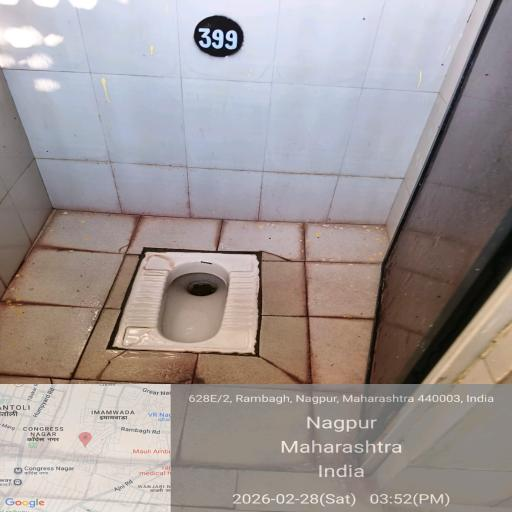clean_floor: (7, 8, 442, 204)
dirty_floor: (3, 208, 384, 398)
partial_dirty_indian: (131, 253, 271, 355)
